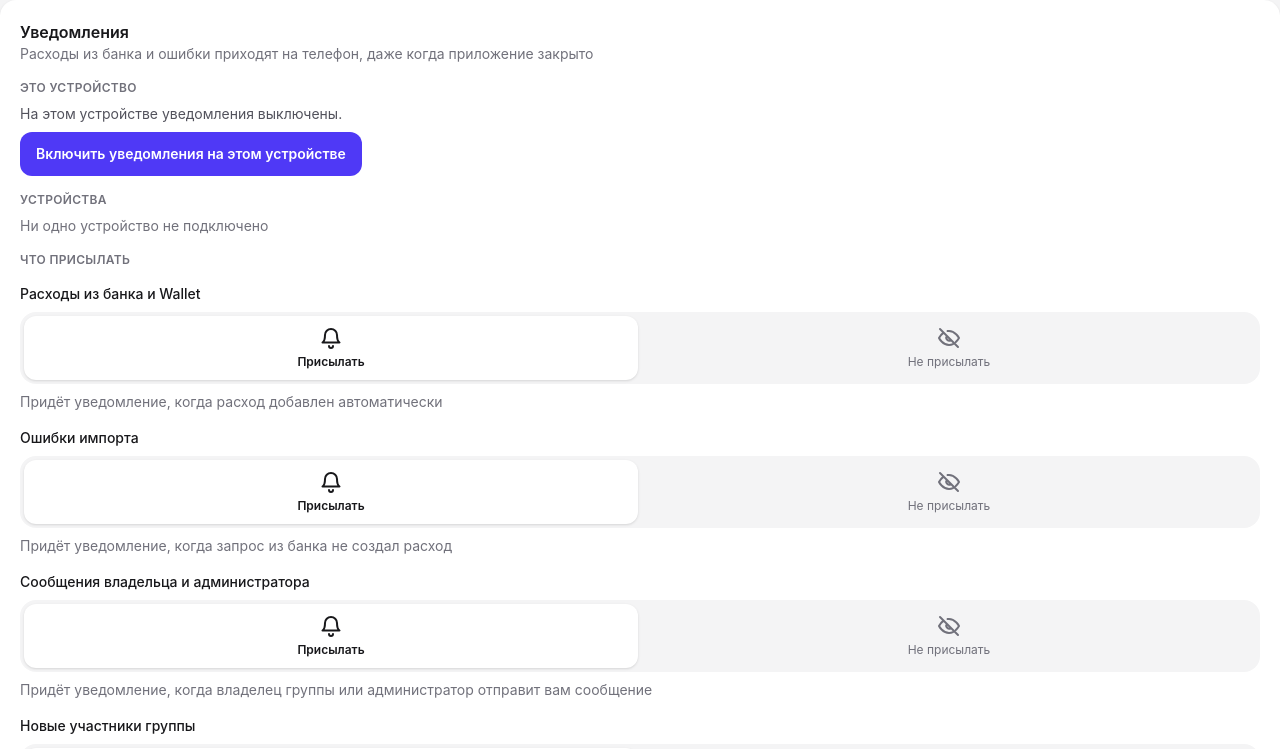
Test: включение › отказ в разрешении: понятное сообщение, подписки нет
The width and height of the screenshot is (1280, 749).
Click the button "Включить уведомления на этом устройстве" at (191, 154), box [20,132,362,176]
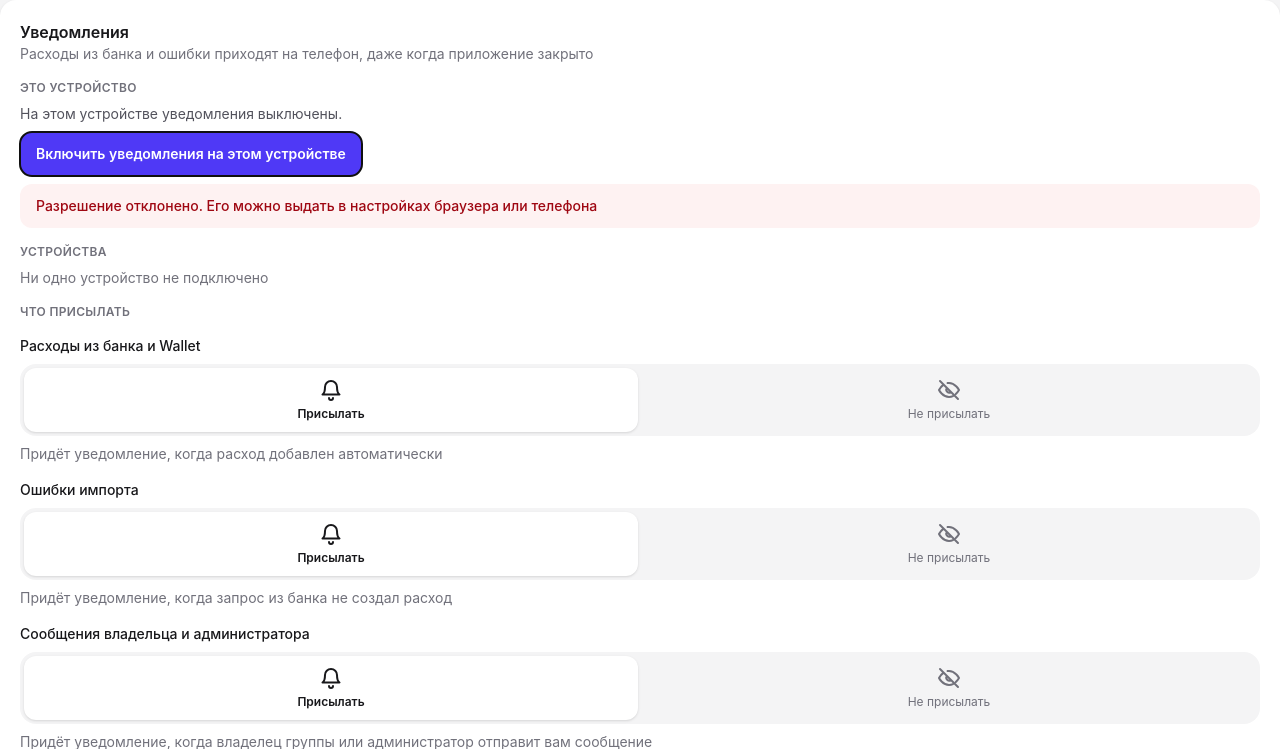
Now the text "Разрешение отклонено. Его можно выдать в настройках браузера или телефона" is shown, box [20,184,1260,228]
